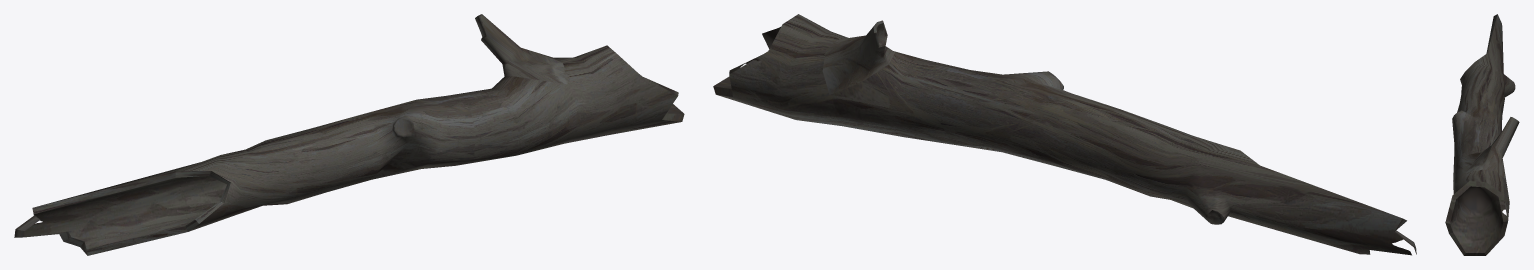
The model's file is log001.glb.
The picture shows the model from 3 angles, left to right: view 1: azimuth 30°, elevation 25°; view 2: azimuth 150°, elevation 25°; view 3: azimuth 270°, elevation 25°; orthographic projection. The views are drawn at different scales.
Visible parts, largest first — view 1: log001.vmdl_c.log001_model; view 2: log001.vmdl_c.log001_model; view 3: log001.vmdl_c.log001_model.
Boxes of the visible parts, bbox=[...] form: log001.vmdl_c.log001_model: bbox=[14, 14, 684, 255]; log001.vmdl_c.log001_model: bbox=[713, 14, 1416, 255]; log001.vmdl_c.log001_model: bbox=[1445, 14, 1519, 255].
Size of the model in its own units: 6.88 by 1.26 by 1.
Materials: 1 (1 with a texture image).
